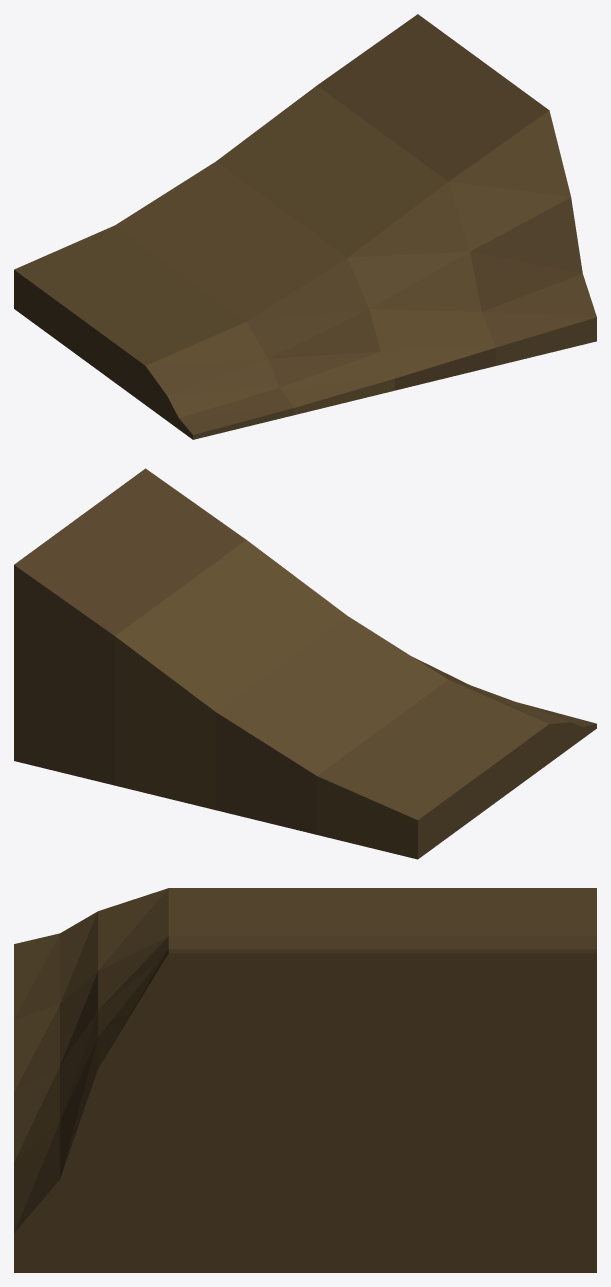
File: EM_ShoreRamp.fbx
The picture shows the model from 3 angles, top to bottom: view 1: azimuth 30°, elevation 25°; view 2: azimuth 150°, elevation 25°; view 3: azimuth 270°, elevation 25°; orthographic projection. The views are drawn at different scales.
Visible parts, largest first — view 1: EM_ShoreRamp; view 2: EM_ShoreRamp; view 3: EM_ShoreRamp.
Part boxes in pixels (x1,y1,x2,y2): EM_ShoreRamp: (14, 14, 596, 439); EM_ShoreRamp: (14, 468, 596, 859); EM_ShoreRamp: (14, 888, 596, 1272).
Size of the model in its own units: 2.8 by 1.3 by 2.15.
